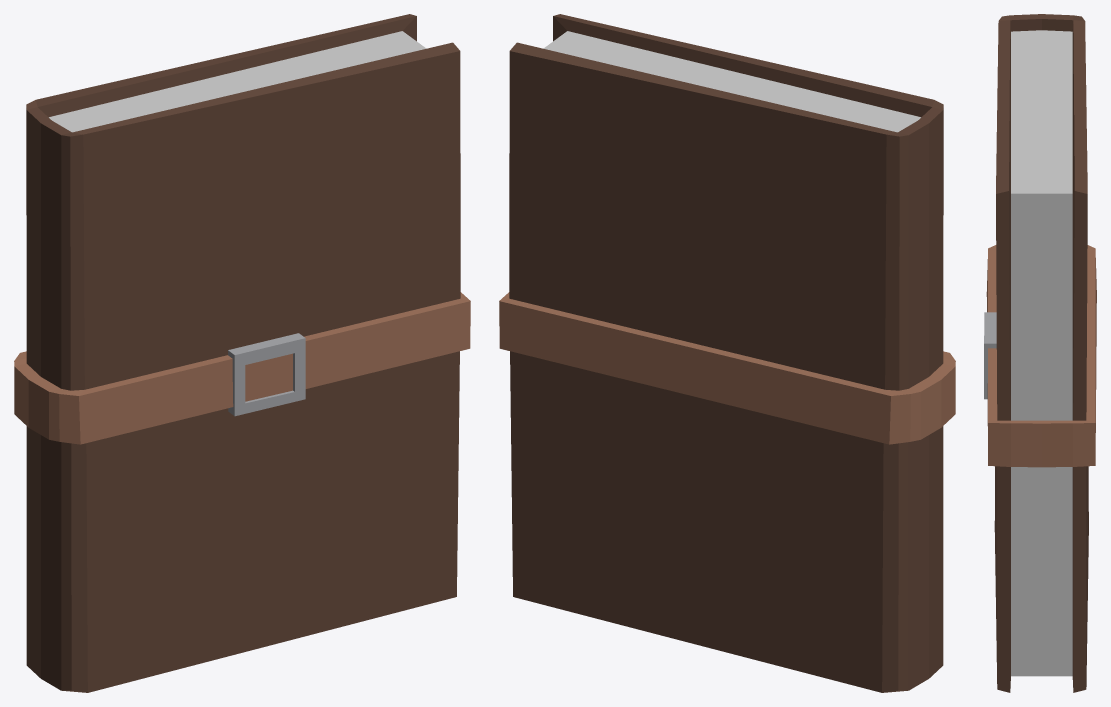
File: Journal_2.fbx
The picture shows the model from 3 angles, left to right: view 1: azimuth 30°, elevation 25°; view 2: azimuth 150°, elevation 25°; view 3: azimuth 270°, elevation 25°; orthographic projection. The views are drawn at different scales.
Visible parts, largest first — view 1: Journal_1; view 2: Journal_1; view 3: Journal_1.
Part boxes in pixels (x1,y1,x2,y2): Journal_1: (14,14,470,692); Journal_1: (499,14,955,692); Journal_1: (984,14,1096,692).
Size of the model in its own units: 18.87 by 24.27 by 4.89.
